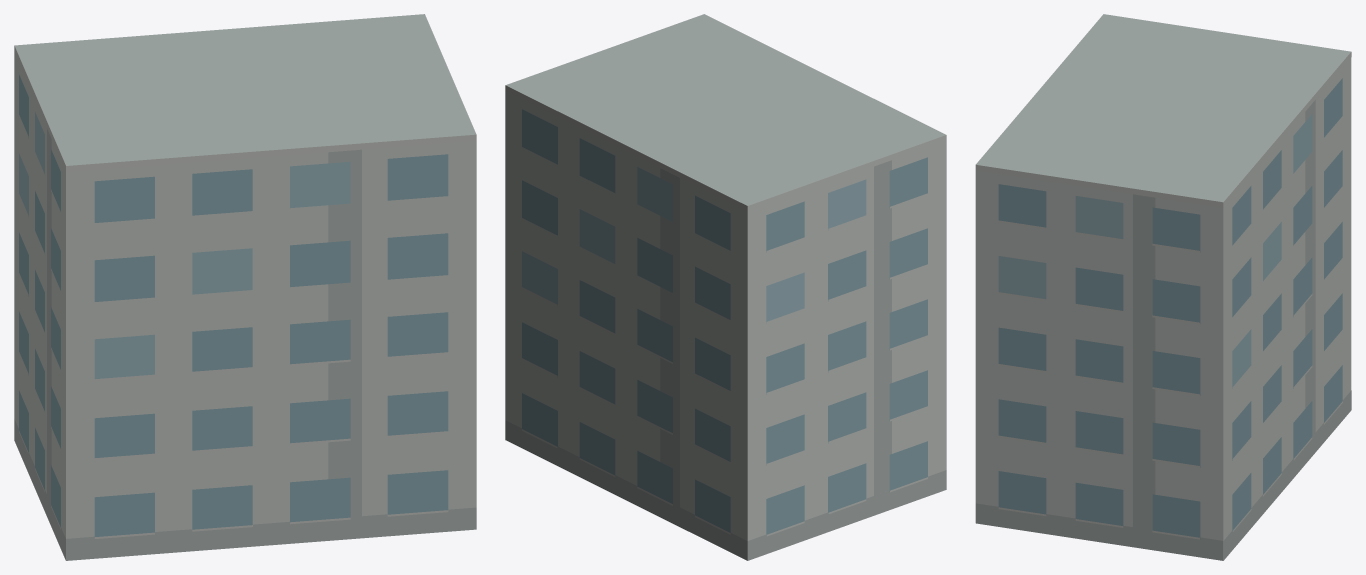
File: residential-2daae462-f525-4157-8a31-958b0e6abf82.glb
The picture shows the model from 3 angles, left to right: view 1: azimuth 30°, elevation 25°; view 2: azimuth 150°, elevation 25°; view 3: azimuth 270°, elevation 25°; orthographic projection. The views are drawn at different scales.
Parts seen in each view (by area): view 1: residential-2daae462-f525-4157-8a31-958b0e6abf82.tmp; view 2: residential-2daae462-f525-4157-8a31-958b0e6abf82.tmp; view 3: residential-2daae462-f525-4157-8a31-958b0e6abf82.tmp.
Part boxes in pixels (x1,y1,x2,y2): residential-2daae462-f525-4157-8a31-958b0e6abf82.tmp: (14,14,476,560); residential-2daae462-f525-4157-8a31-958b0e6abf82.tmp: (505,14,946,560); residential-2daae462-f525-4157-8a31-958b0e6abf82.tmp: (975,14,1351,560).
Bounding box in the file's own units: 17.18 × 15.25 × 14.49.
